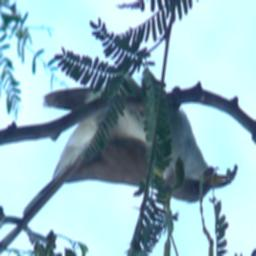Cuckoo: (0, 64, 236, 256)
